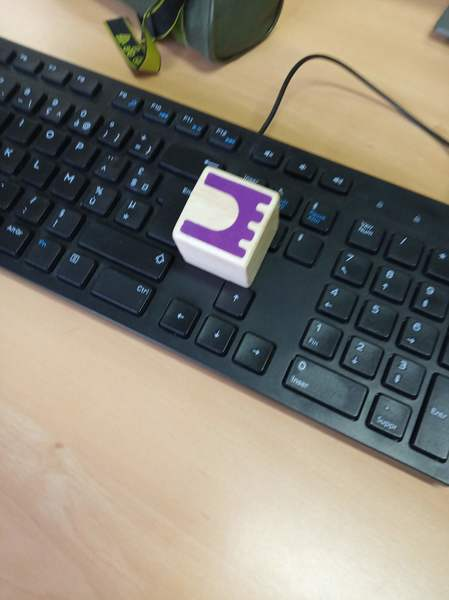violet: (180, 161, 280, 273)
